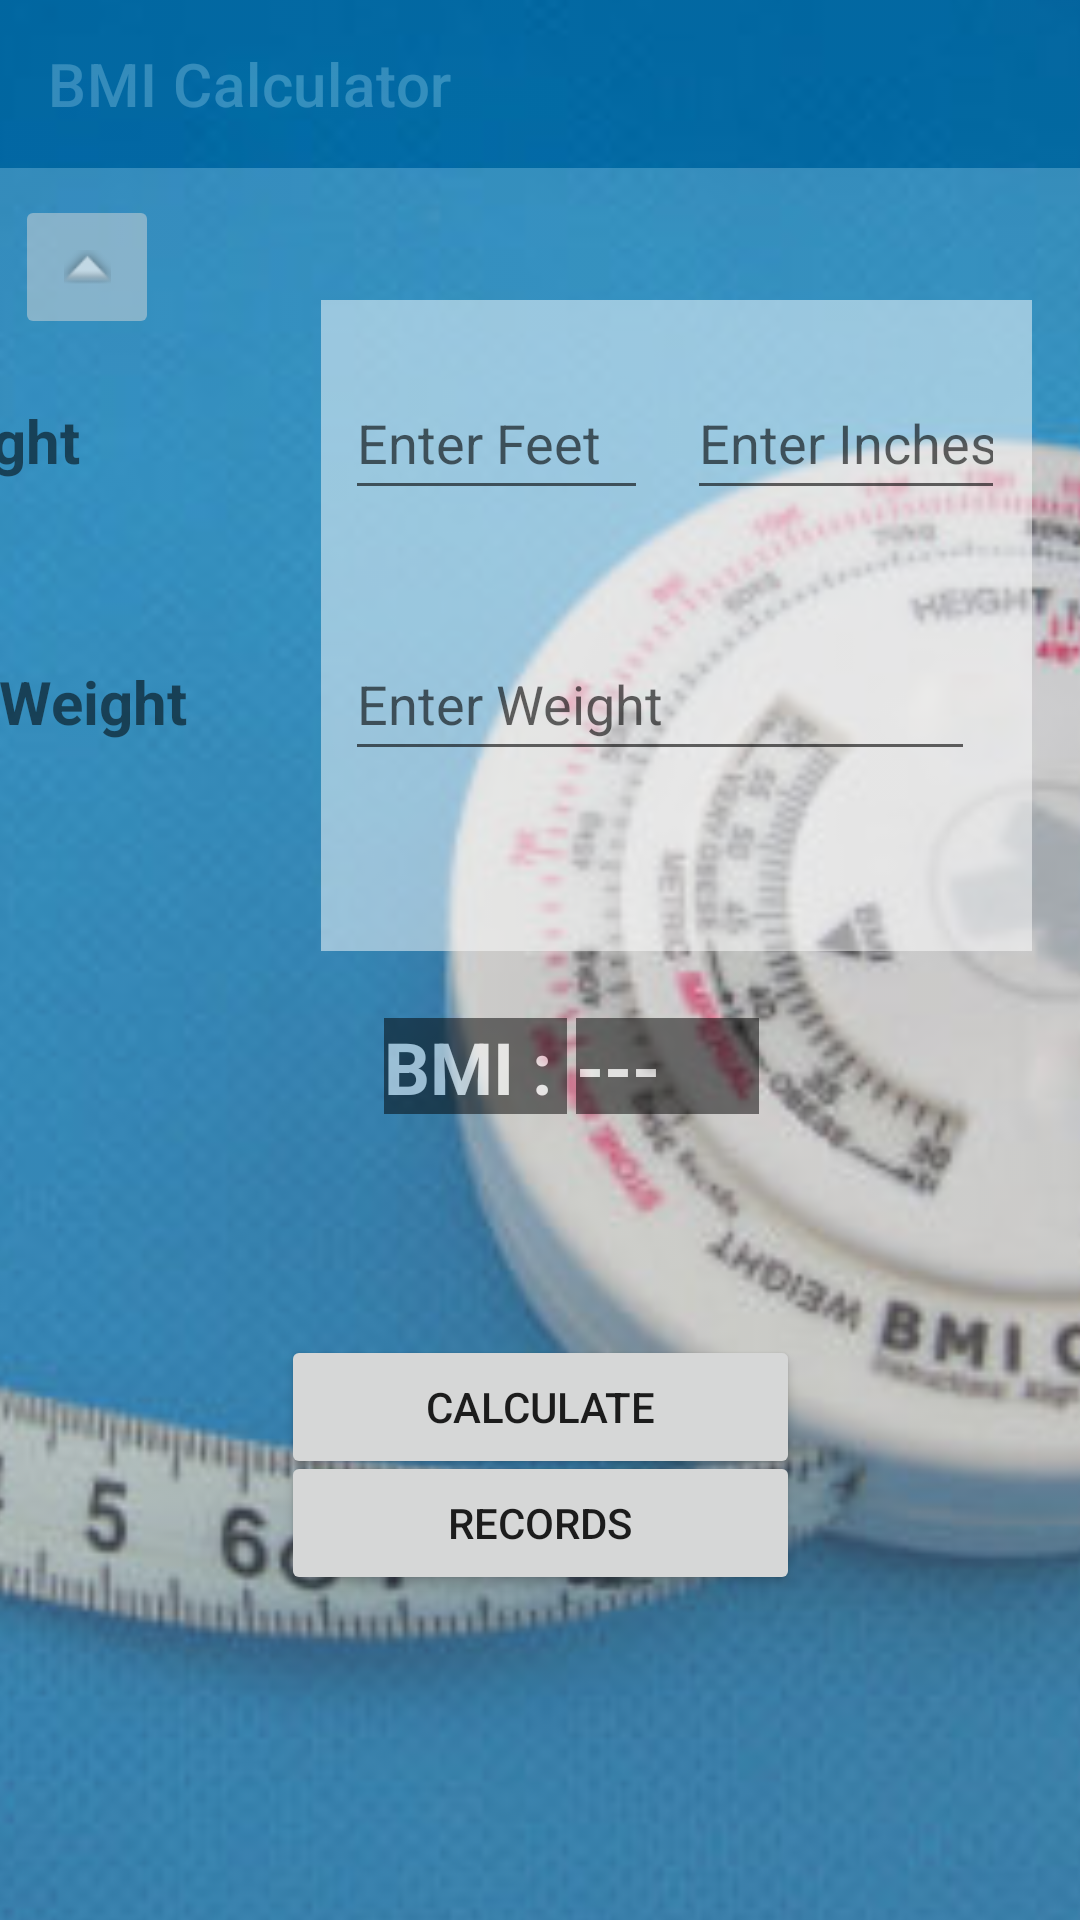

Icon click points for this 1080w x 1920h phone screenshot, format (x,y):
arrow up float: (87,267)
